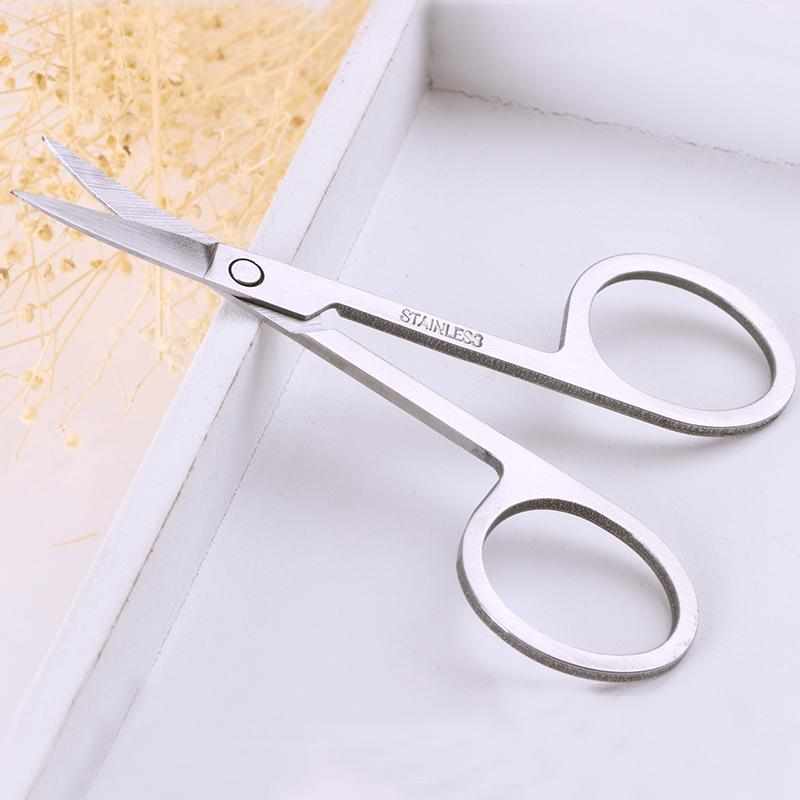scissor: (33, 124, 800, 685)
